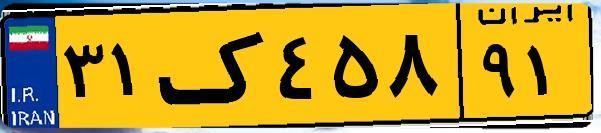1: (525, 38, 570, 115), (110, 28, 158, 98)
3: (57, 26, 110, 100)
4: (270, 28, 330, 110)
5: (330, 28, 385, 110)
8: (385, 28, 445, 110)
9: (475, 38, 525, 113)
ک: (158, 12, 270, 120)
